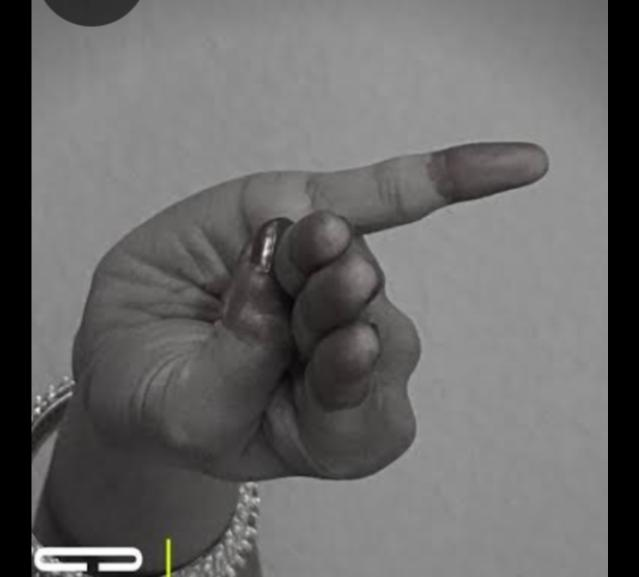chatur: (103, 110, 553, 540)
